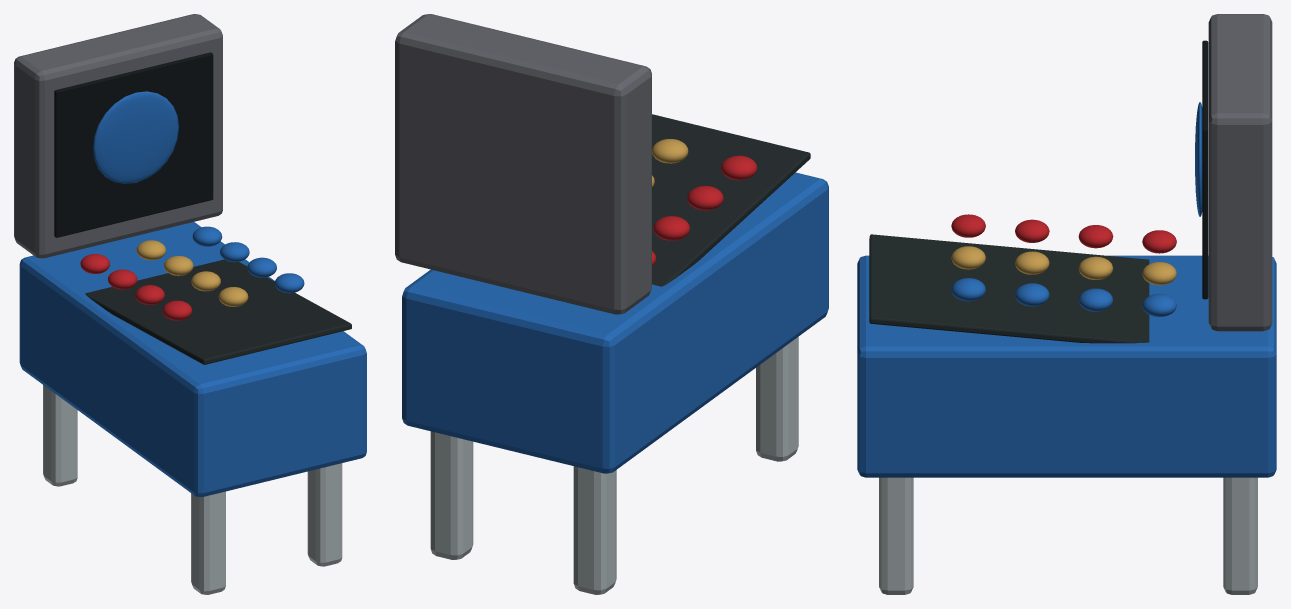
Rendered from better.glb.
3 views of the same model, side by side, from view 1: azimuth 30°, elevation 25°; view 2: azimuth 150°, elevation 25°; view 3: azimuth 270°, elevation 25° (orthographic). The views are drawn at different scales.
Parts seen in each view (by area): view 1: Bumper.002, Backbox, Backglass, Playfield, Leg, Bumper, Bumper.001; view 2: Bumper.002, Backbox, Leg, Playfield, Bumper, Bumper.001; view 3: Bumper.002, Playfield, Backbox, Leg, Bumper, Bumper.001, Backglass.
Part boxes in pixels (x1=…): Bumper.002: x1=19, y1=91, x2=366, y2=497; Backbox: x1=14, y1=14, x2=222, y2=258; Backglass: x1=54, y1=52, x2=213, y2=237; Playfield: x1=85, y1=259, x2=351, y2=364; Leg: x1=43, y1=385, x2=342, y2=594; Bumper: x1=80, y1=254, x2=192, y2=320; Bumper.001: x1=136, y1=240, x2=248, y2=306; Bumper.002: x1=402, y1=172, x2=828, y2=473; Backbox: x1=395, y1=14, x2=651, y2=314; Leg: x1=430, y1=337, x2=798, y2=594; Playfield: x1=652, y1=114, x2=810, y2=286; Bumper: x1=652, y1=155, x2=757, y2=266; Bumper.001: x1=652, y1=139, x2=688, y2=187; Bumper.002: x1=857, y1=102, x2=1276, y2=477; Playfield: x1=869, y1=234, x2=1149, y2=343; Backbox: x1=1208, y1=14, x2=1272, y2=331; Leg: x1=879, y1=477, x2=1257, y2=594; Bumper: x1=951, y1=214, x2=1176, y2=253; Bumper.001: x1=951, y1=246, x2=1176, y2=285; Backglass: x1=1202, y1=40, x2=1208, y2=299.
Bounding box in the file's own units: 0.6 × 1.3 × 1.
